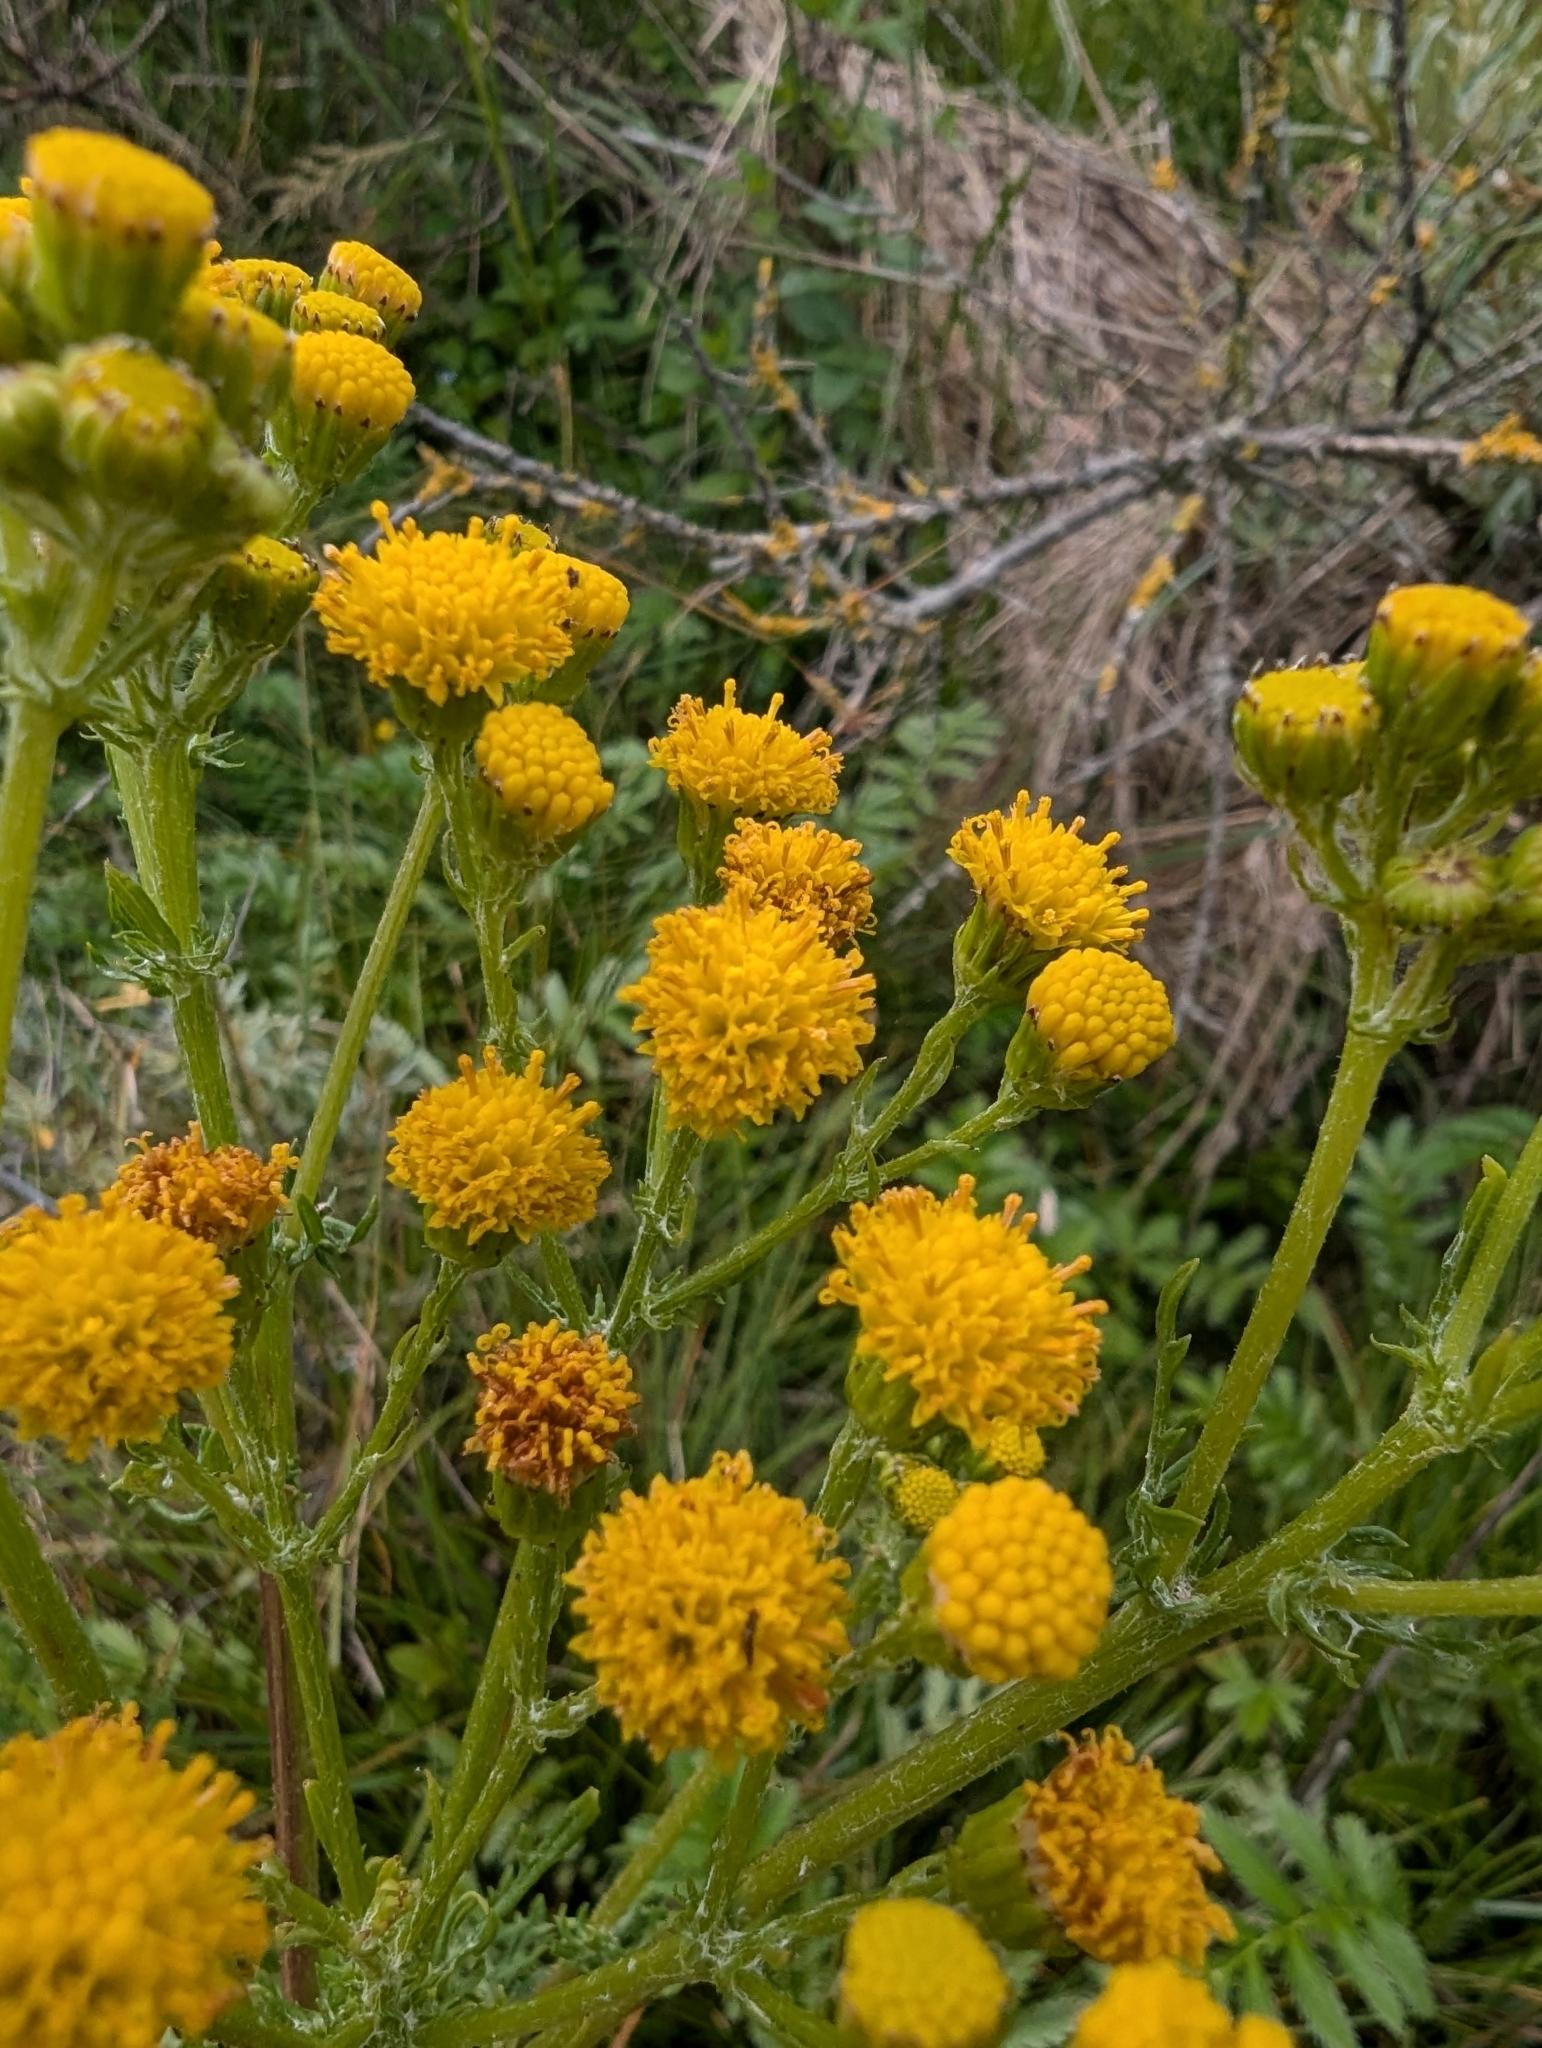Jacobaea vulgaris: (0, 87, 1542, 2048)
